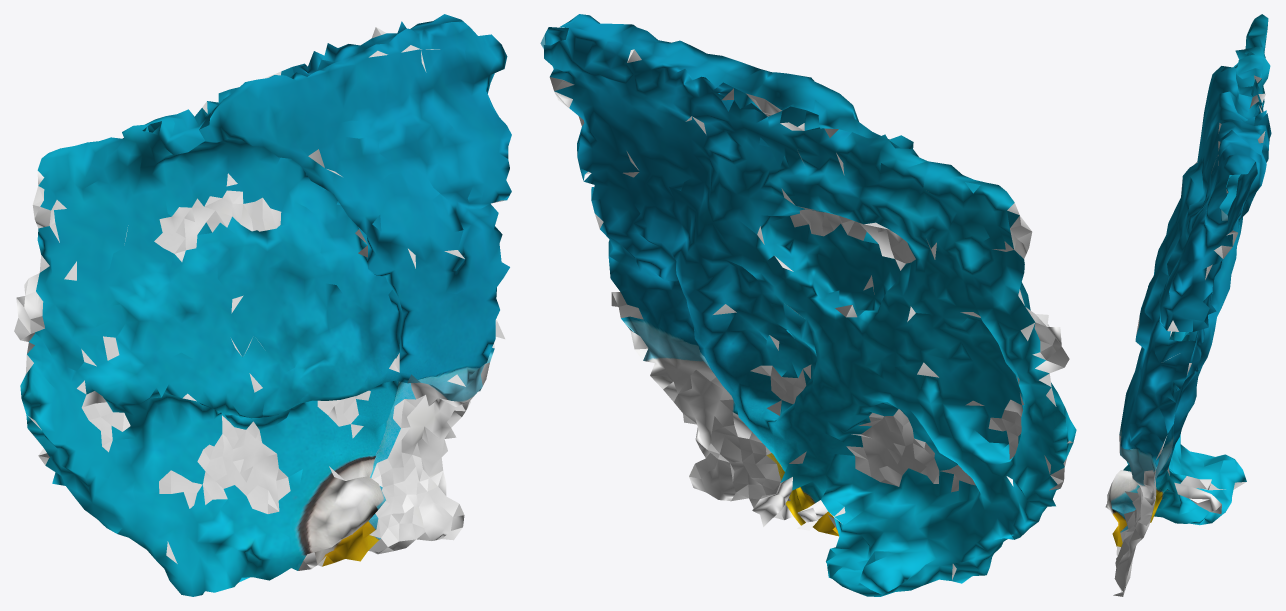
File: anitkythera.glb
3 views of the same model, side by side, from view 1: azimuth 30°, elevation 25°; view 2: azimuth 150°, elevation 25°; view 3: azimuth 270°, elevation 25° (orthographic). The views are drawn at different scales.
Visible parts, largest first — view 1: AM_A_entire; view 2: AM_A_entire; view 3: AM_A_entire.
Part boxes in pixels (left/top/right/bottom): AM_A_entire: left=14, top=14, right=511, bottom=596; AM_A_entire: left=540, top=14, right=1076, bottom=596; AM_A_entire: left=1105, top=14, right=1271, bottom=596.
Bounding box in the file's own units: 1.51 × 1.42 × 0.4455.
Materials: 1 (1 with a texture image).
